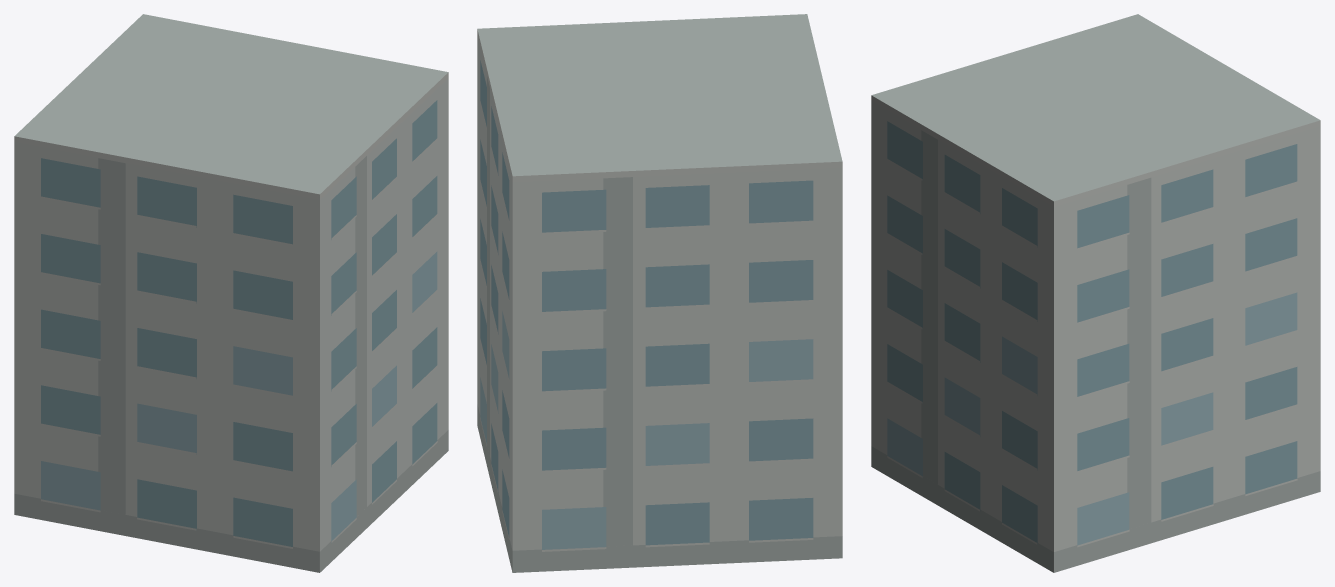
File: survey-upis-32887471.glb
The picture shows the model from 3 angles, left to right: view 1: azimuth 30°, elevation 25°; view 2: azimuth 150°, elevation 25°; view 3: azimuth 270°, elevation 25°; orthographic projection. The views are drawn at different scales.
Parts seen in each view (by area): view 1: survey-upis-32887471.tmp; view 2: survey-upis-32887471.tmp; view 3: survey-upis-32887471.tmp.
Part boxes in pixels (x1=…): survey-upis-32887471.tmp: x1=14, y1=14, x2=448, y2=572; survey-upis-32887471.tmp: x1=477, y1=14, x2=842, y2=572; survey-upis-32887471.tmp: x1=871, y1=14, x2=1320, y2=572.
Bounding box in the file's own units: 17.11 × 15.8 × 17.33.
